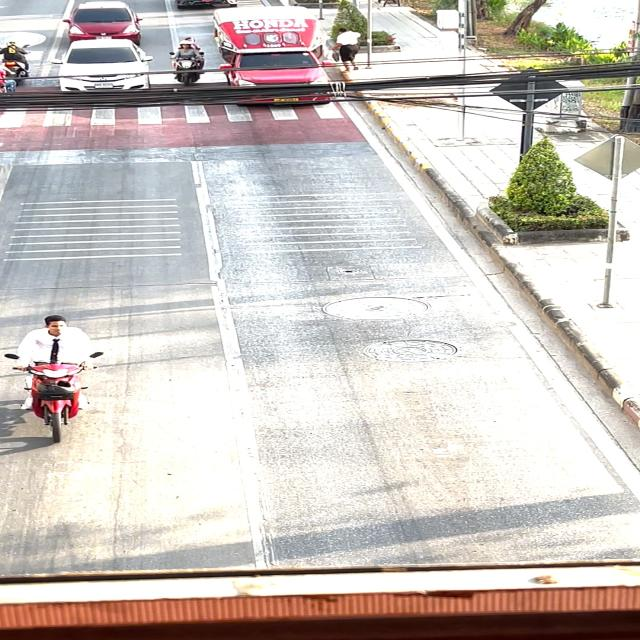car: (206, 0, 344, 117), (51, 40, 172, 107), (60, 0, 164, 42)
